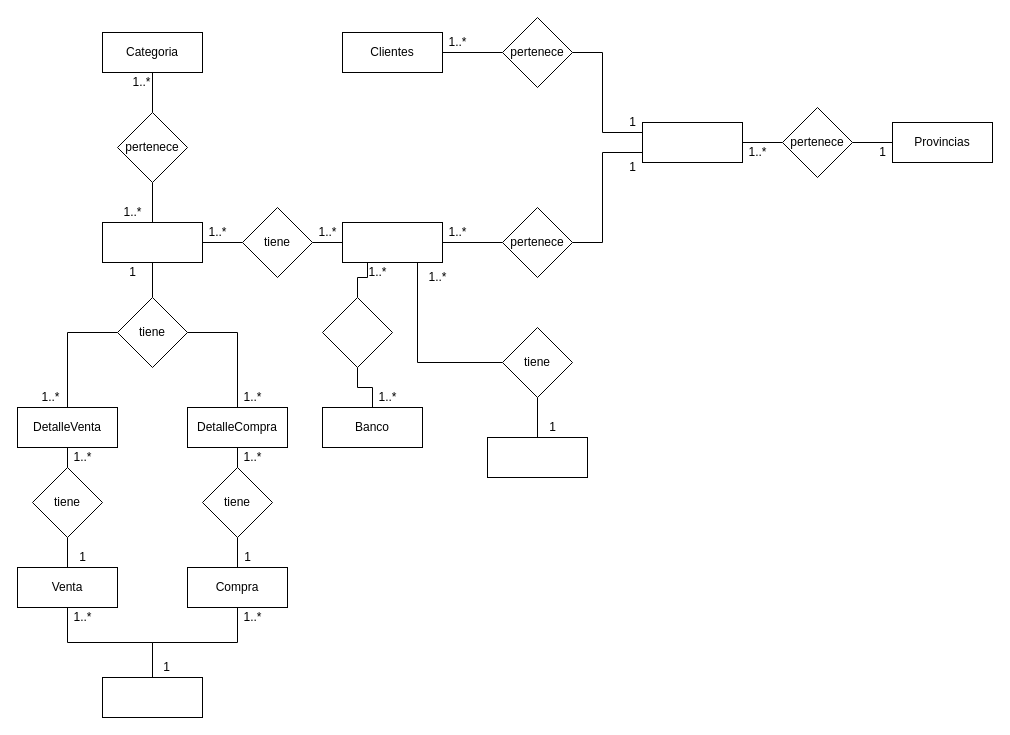
Image size: 1010x735. Some labels were removed from this diagram. Each missing label, with the centre of its shape:
"CategoriaIVA" goes at point 537,457.
"cliente" goes at point 357,332.
"FormaPago" goes at point 152,697.
"Localidades" goes at point 692,142.
"Productos" goes at point 152,242.
"Proveedor" goes at point 392,242.
